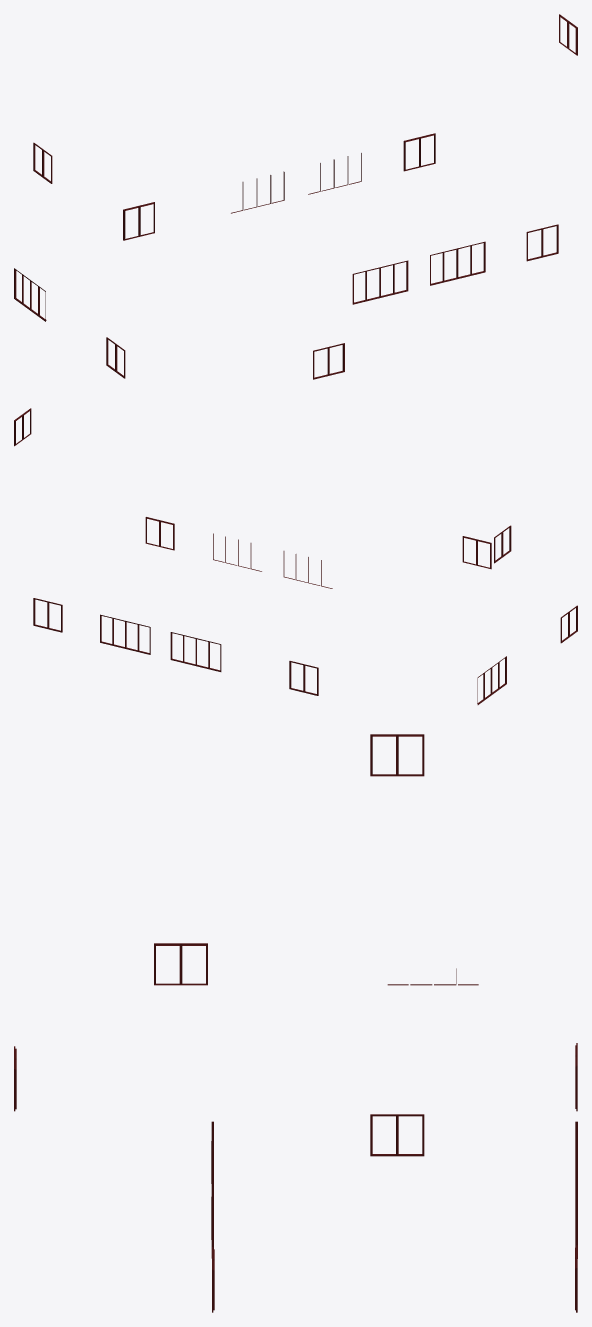
File: FairyTale103.gltf
3 renders of one model, top to bottom at view 1: azimuth 30°, elevation 25°; view 2: azimuth 150°, elevation 25°; view 3: azimuth 270°, elevation 25°, orthographic. The views are drawn at different scales.
Visible parts, largest first — view 1: HouseSM03_WoodDark; view 2: HouseSM03_WoodDark; view 3: HouseSM03_WoodDark.
Part boxes in pixels (bbox=[...]): HouseSM03_WoodDark: bbox=[14, 14, 577, 379]; HouseSM03_WoodDark: bbox=[14, 408, 577, 704]; HouseSM03_WoodDark: bbox=[14, 734, 577, 1312].
Bounding box in the file's own units: 15.64 × 4.83 × 9.79.
